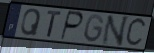C: (124, 16, 148, 49)
G: (83, 13, 106, 44)
N: (100, 15, 131, 48)
P: (59, 10, 85, 42)
Q: (20, 7, 43, 37)
T: (46, 10, 63, 39)
